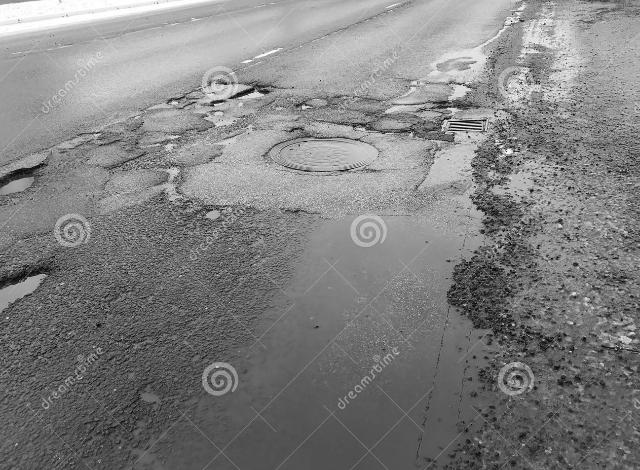Pothole: (0, 256, 66, 340), (192, 64, 274, 130), (0, 161, 62, 203), (428, 90, 480, 124)
